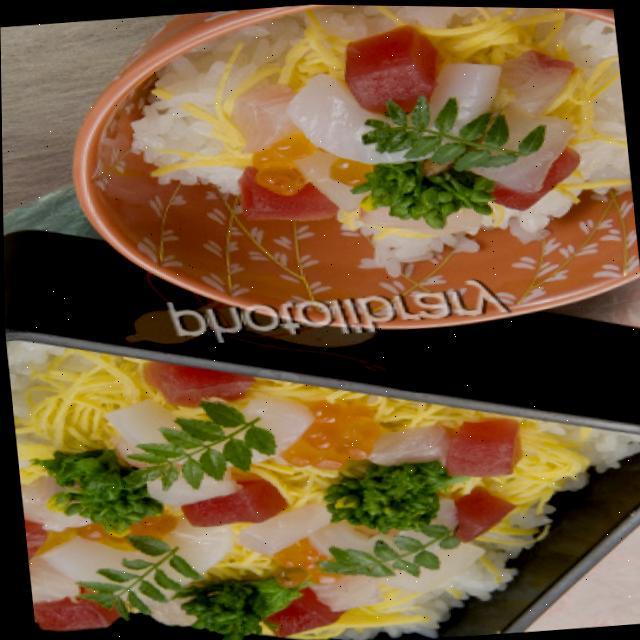寿司卷物: (8, 329, 640, 640)
